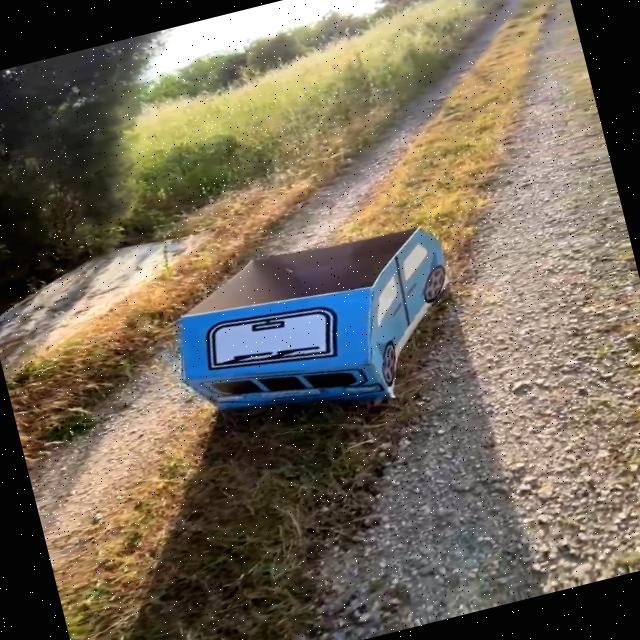blue_car: (89, 171, 556, 494)
